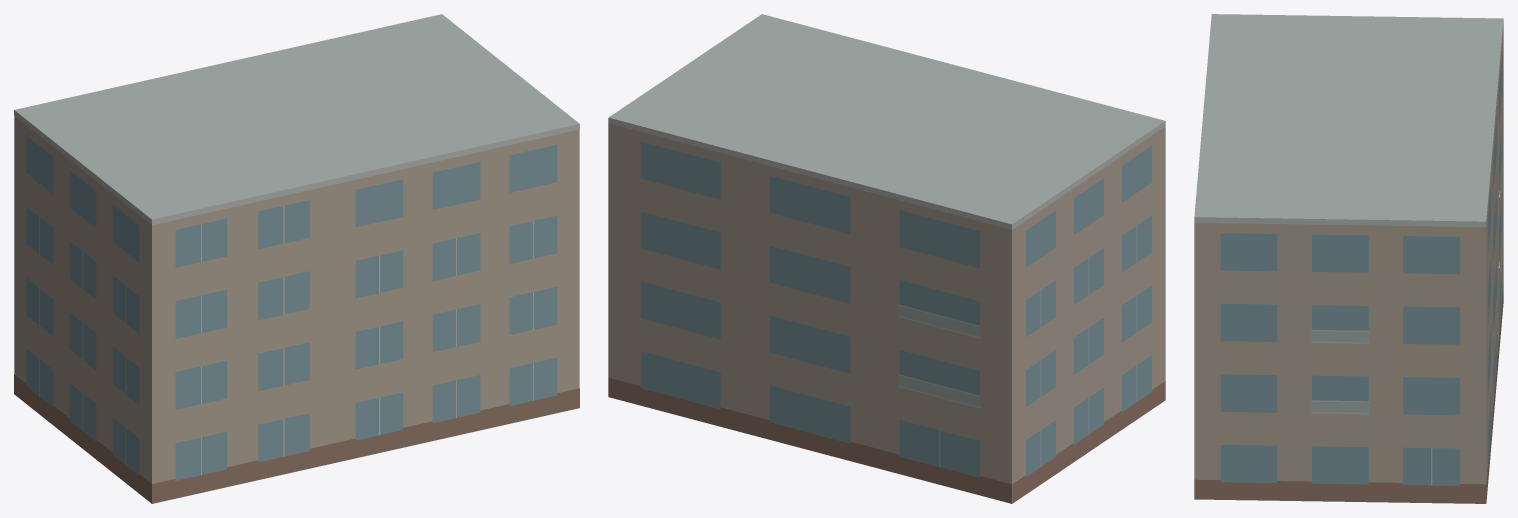
File: residential-27020fe9-ffd0-4d52-848a-1f51330b673c.glb
3 views of the same model, side by side, from view 1: azimuth 30°, elevation 25°; view 2: azimuth 150°, elevation 25°; view 3: azimuth 270°, elevation 25° (orthographic).
Visible parts, largest first — view 1: residential-27020fe9-ffd0-4d52-848a-1f51330b673c.tmp; view 2: residential-27020fe9-ffd0-4d52-848a-1f51330b673c.tmp; view 3: residential-27020fe9-ffd0-4d52-848a-1f51330b673c.tmp.
Part boxes in pixels (<box>): residential-27020fe9-ffd0-4d52-848a-1f51330b673c.tmp: <box>14,14,579,503</box>; residential-27020fe9-ffd0-4d52-848a-1f51330b673c.tmp: <box>608,14,1165,503</box>; residential-27020fe9-ffd0-4d52-848a-1f51330b673c.tmp: <box>1194,14,1503,503</box>.
Bounding box in the file's own units: 19.25 × 12.2 × 12.12.
